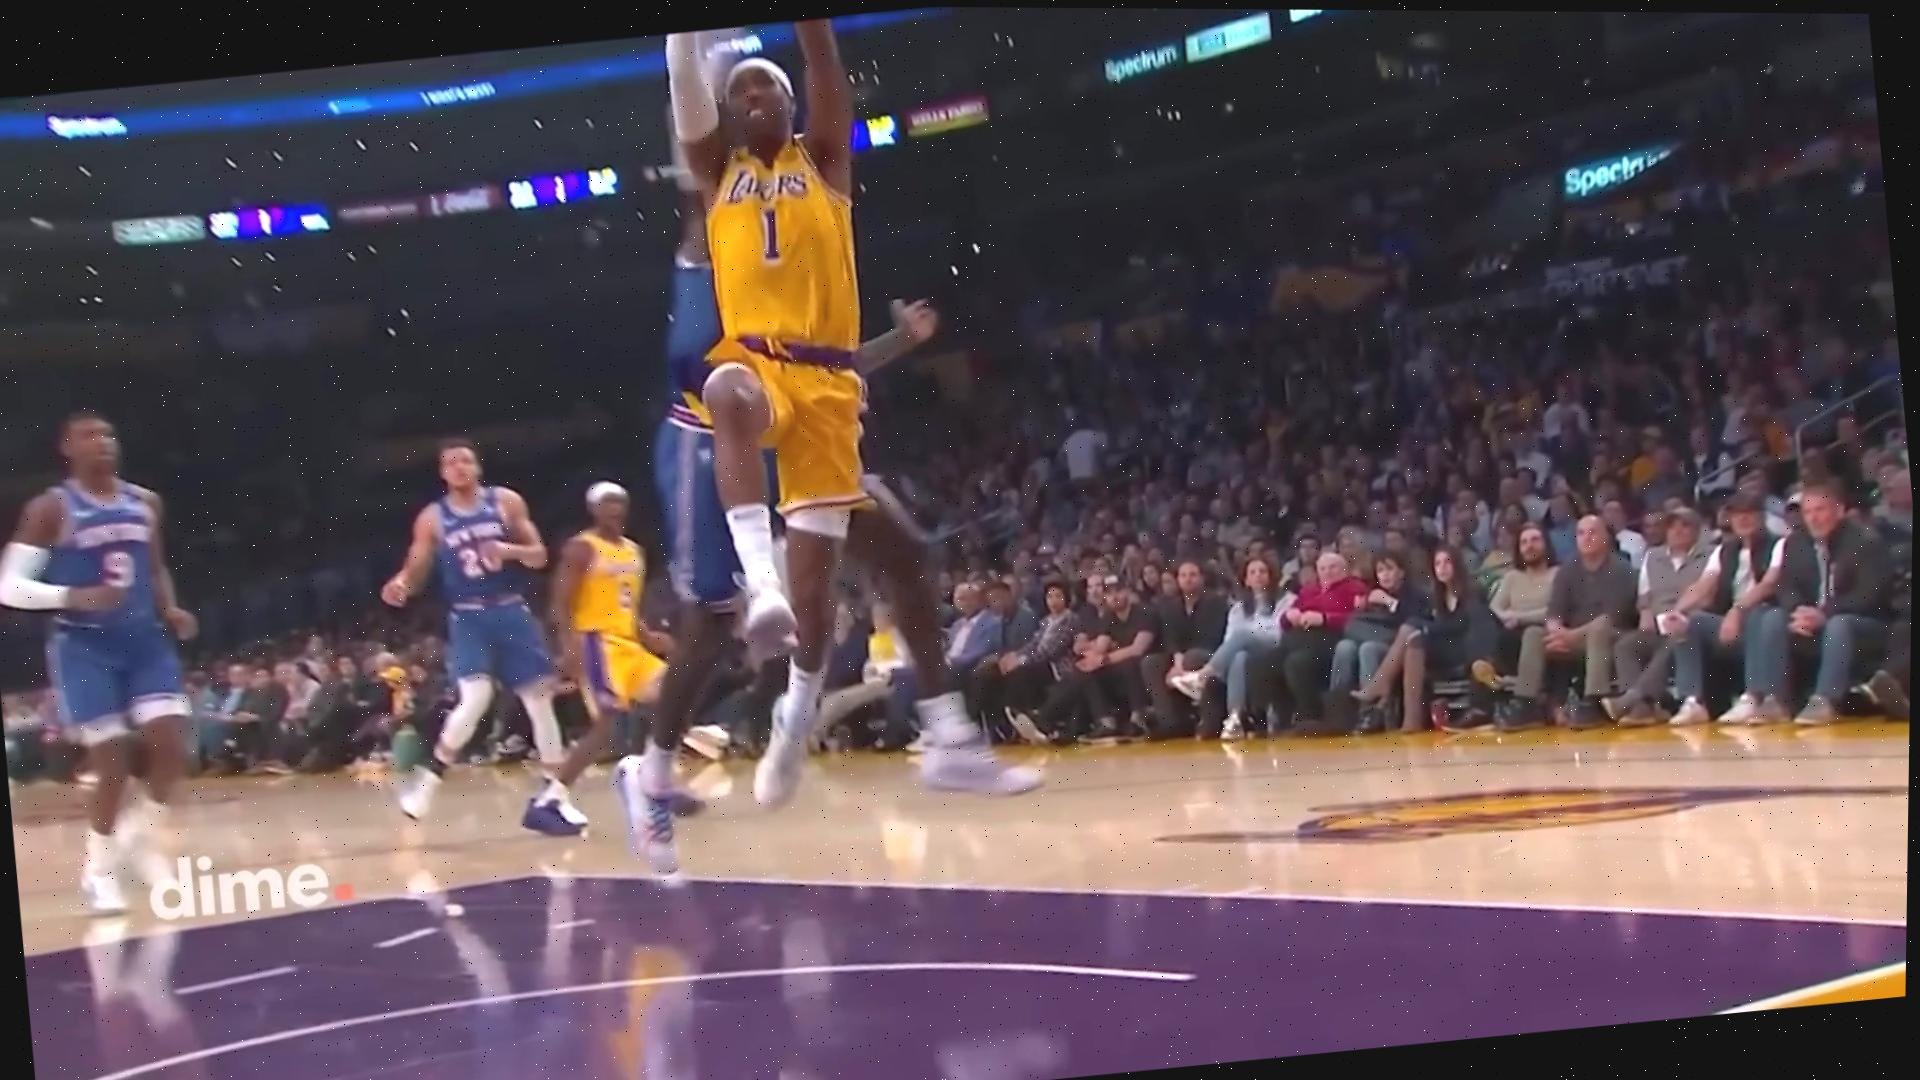no_foul: (448, 4, 1091, 953)
